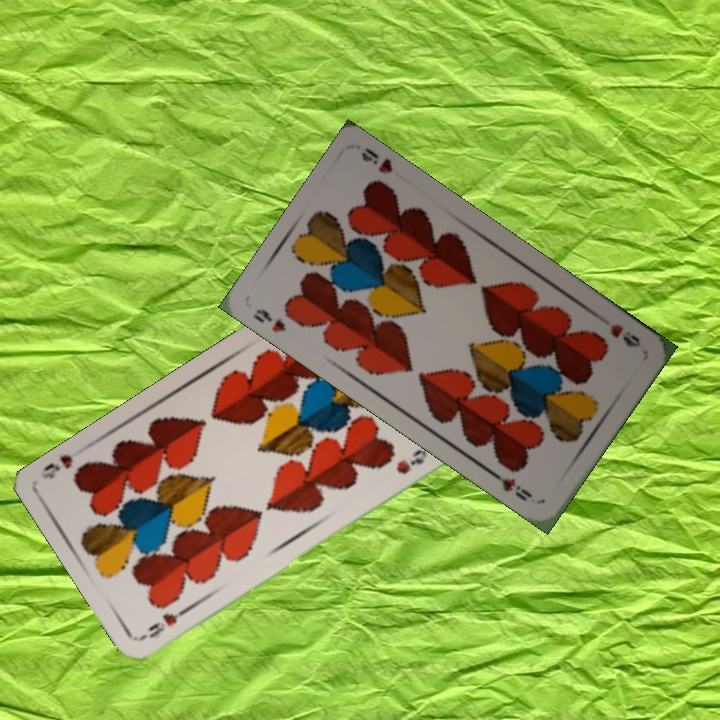H9: (138, 603, 192, 641), (249, 304, 288, 335), (606, 320, 643, 351)
